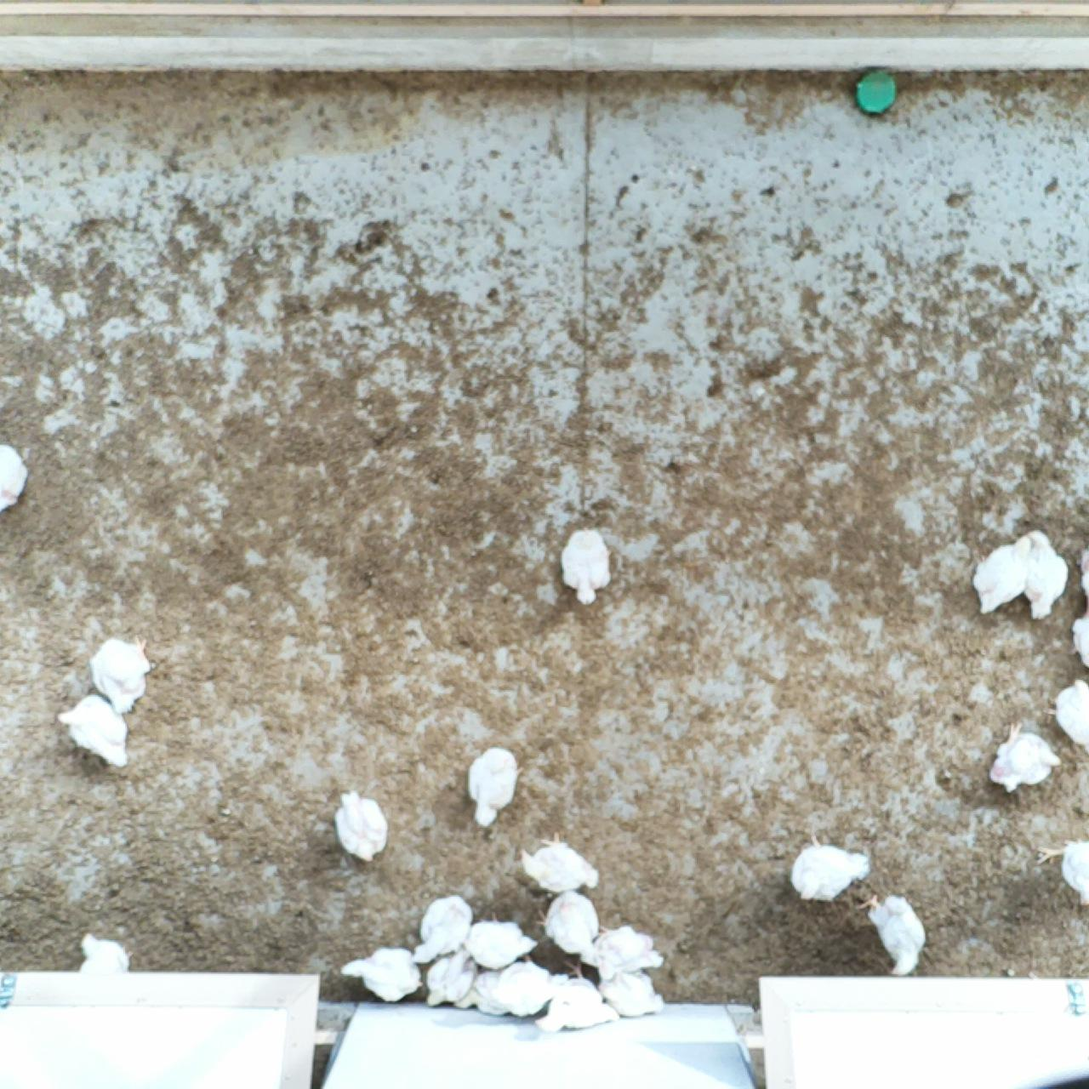chicken: (855, 889, 929, 979), (538, 963, 621, 1036), (55, 694, 130, 771), (517, 831, 603, 898), (790, 832, 870, 903), (970, 532, 1035, 618), (466, 743, 527, 831), (986, 721, 1062, 790), (338, 943, 423, 1003), (580, 921, 667, 979), (1017, 525, 1069, 622), (539, 889, 604, 966), (330, 789, 396, 864), (559, 520, 614, 610), (408, 892, 477, 963), (90, 635, 150, 714), (459, 910, 539, 968), (496, 955, 569, 1016), (1035, 835, 1089, 912), (593, 963, 667, 1016), (422, 946, 477, 1008), (452, 970, 521, 1017), (1052, 680, 1089, 758), (73, 930, 135, 972), (0, 441, 32, 512), (1068, 606, 1089, 670), (1074, 541, 1089, 605)
